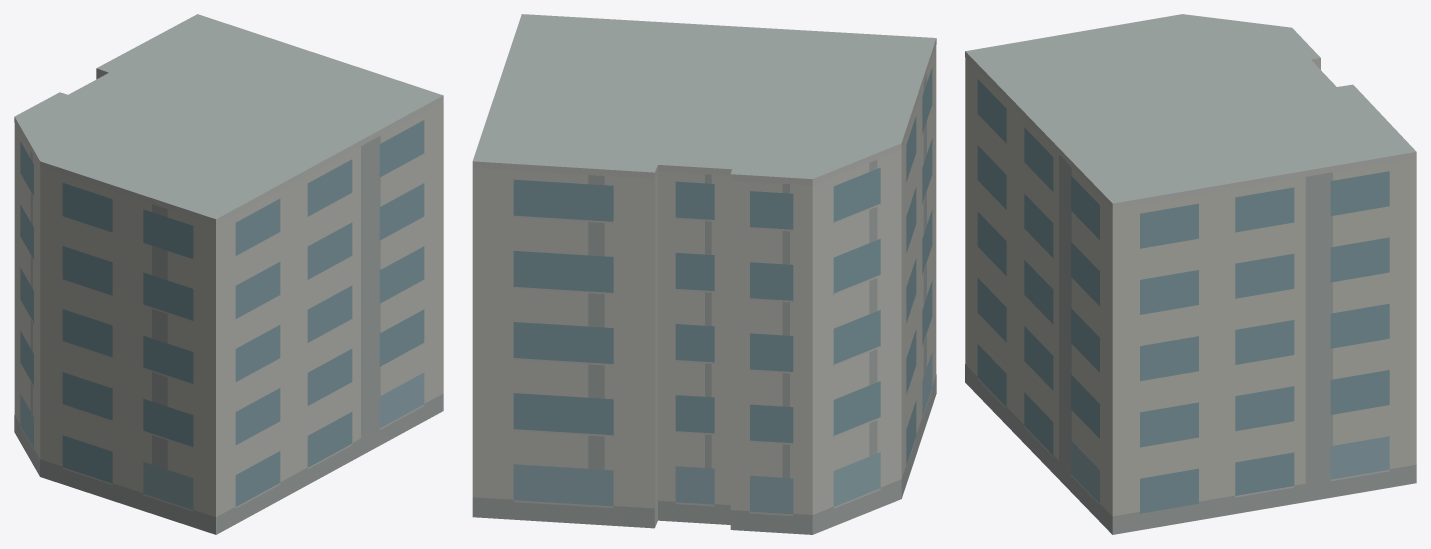
File: survey-upis-32887728.glb
3 views of the same model, side by side, from view 1: azimuth 30°, elevation 25°; view 2: azimuth 150°, elevation 25°; view 3: azimuth 270°, elevation 25° (orthographic). The views are drawn at different scales.
Visible parts, largest first — view 1: survey-upis-32887728.tmp; view 2: survey-upis-32887728.tmp; view 3: survey-upis-32887728.tmp.
Boxes of the visible parts, x1,y1,x2,y2 form: survey-upis-32887728.tmp: [14, 14, 443, 534]; survey-upis-32887728.tmp: [472, 14, 936, 534]; survey-upis-32887728.tmp: [965, 14, 1416, 534].
Bounding box in the file's own units: 16.21 × 13.2 × 16.31.
